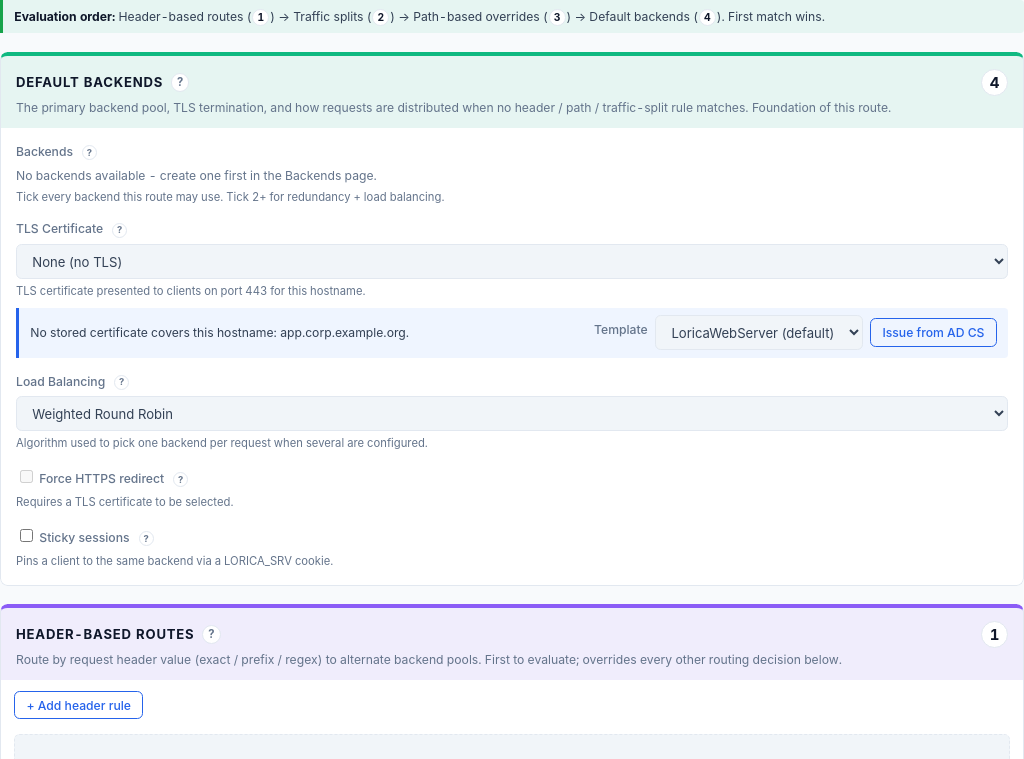
RoutingTab AD CS issuance › keeps the selection resolvable when the list re-read fails
Click the button "Issue from AD CS". click: (933, 333)
box: [870,318,997,347]
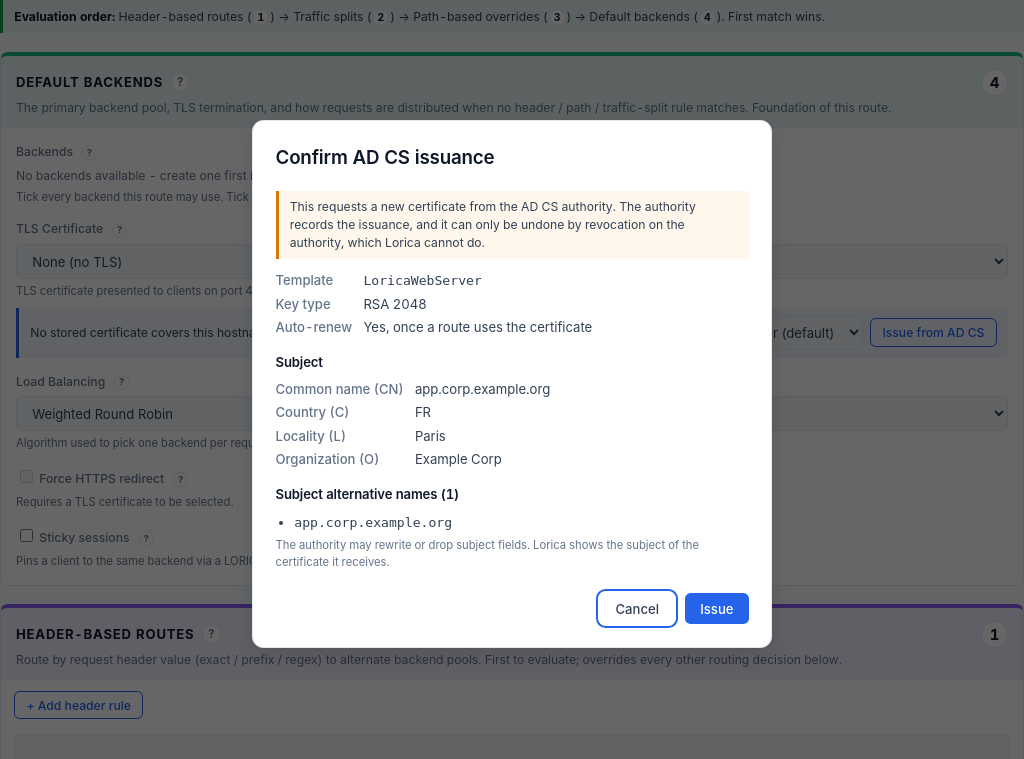
Click the button "Issue". click: (717, 608)
box: [685,593,748,624]
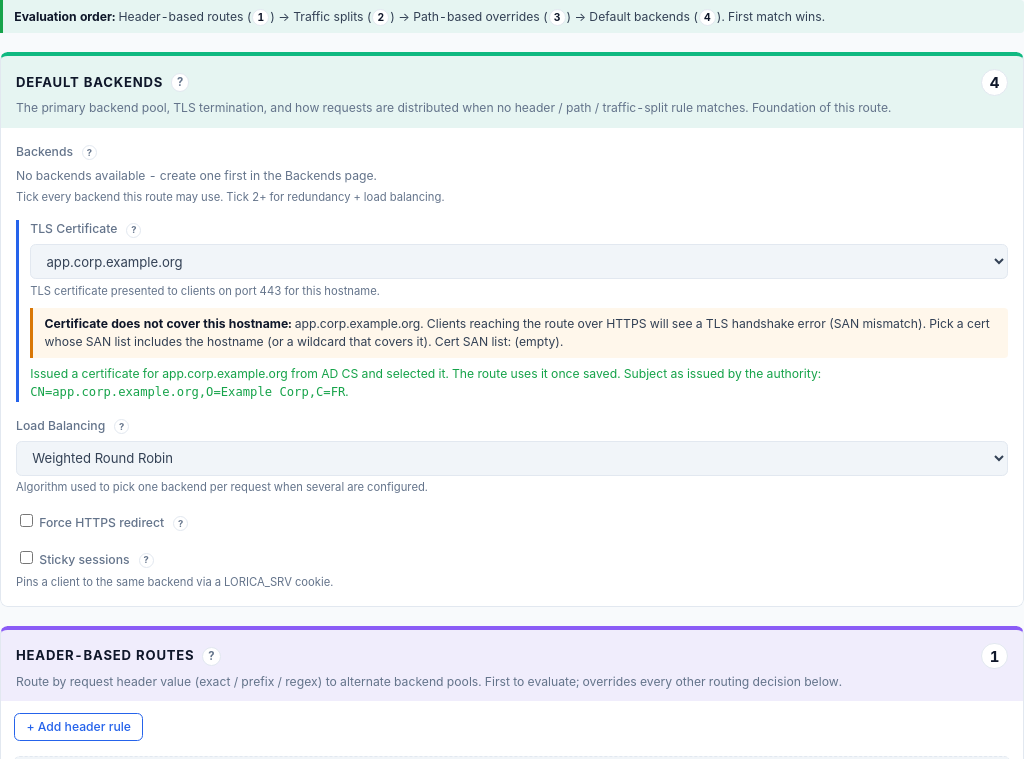
Now the dropdown with id "certificate" shows "app.corp.example.org", box [30,244,1008,279]
